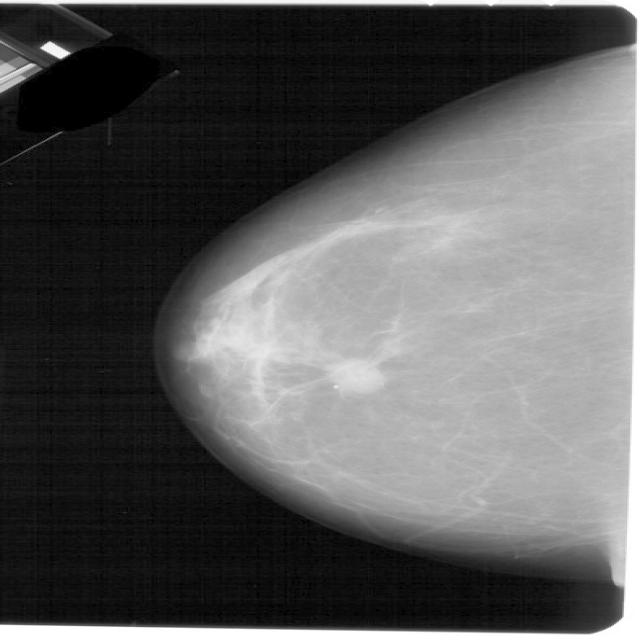tumour: (327, 355, 386, 394)
